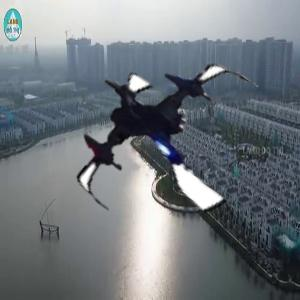drone: (70, 40, 272, 242)
